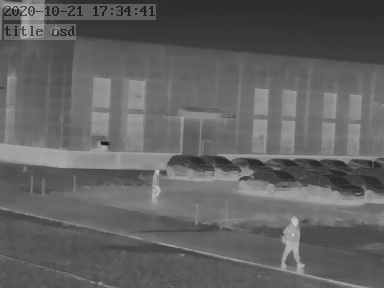person: (279, 215, 303, 268), (149, 169, 163, 204)
vehicle: (237, 169, 301, 191), (307, 173, 358, 200), (163, 152, 213, 179), (203, 153, 242, 177), (349, 174, 382, 200), (233, 154, 270, 171), (261, 155, 296, 170), (348, 156, 380, 170), (318, 156, 347, 169), (296, 156, 324, 169)
